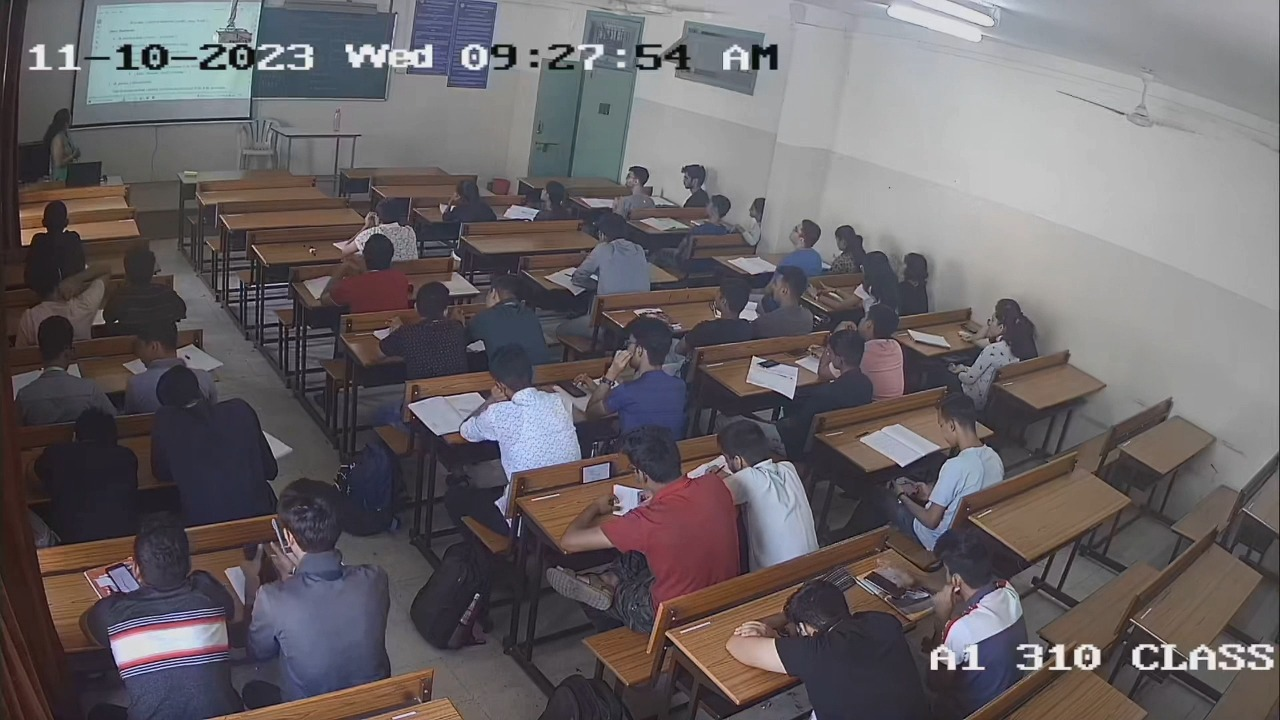cell-phones: (244, 538, 279, 588), (102, 555, 144, 591), (862, 570, 909, 600), (578, 462, 616, 487), (887, 472, 922, 498), (555, 377, 587, 399), (757, 358, 780, 370)
person: (248, 476, 400, 693), (77, 517, 241, 715), (569, 427, 738, 597), (928, 531, 1030, 696), (886, 391, 1005, 515), (582, 319, 696, 439), (776, 334, 870, 431)
